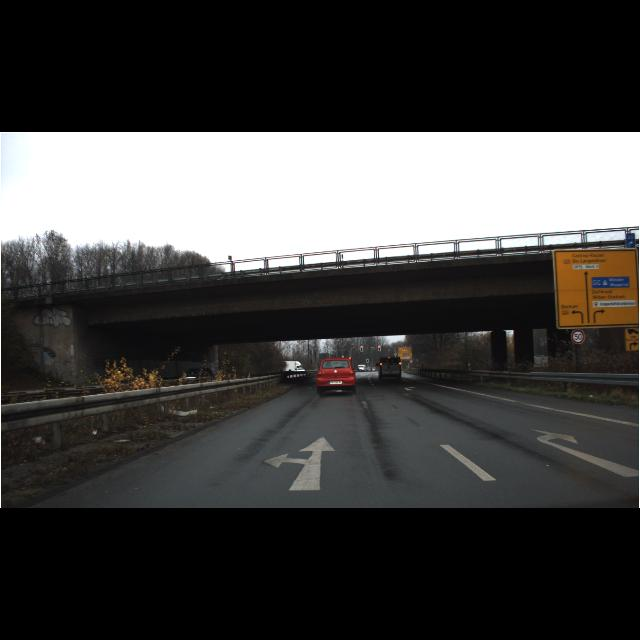prohibitory: (570, 330, 586, 344)
